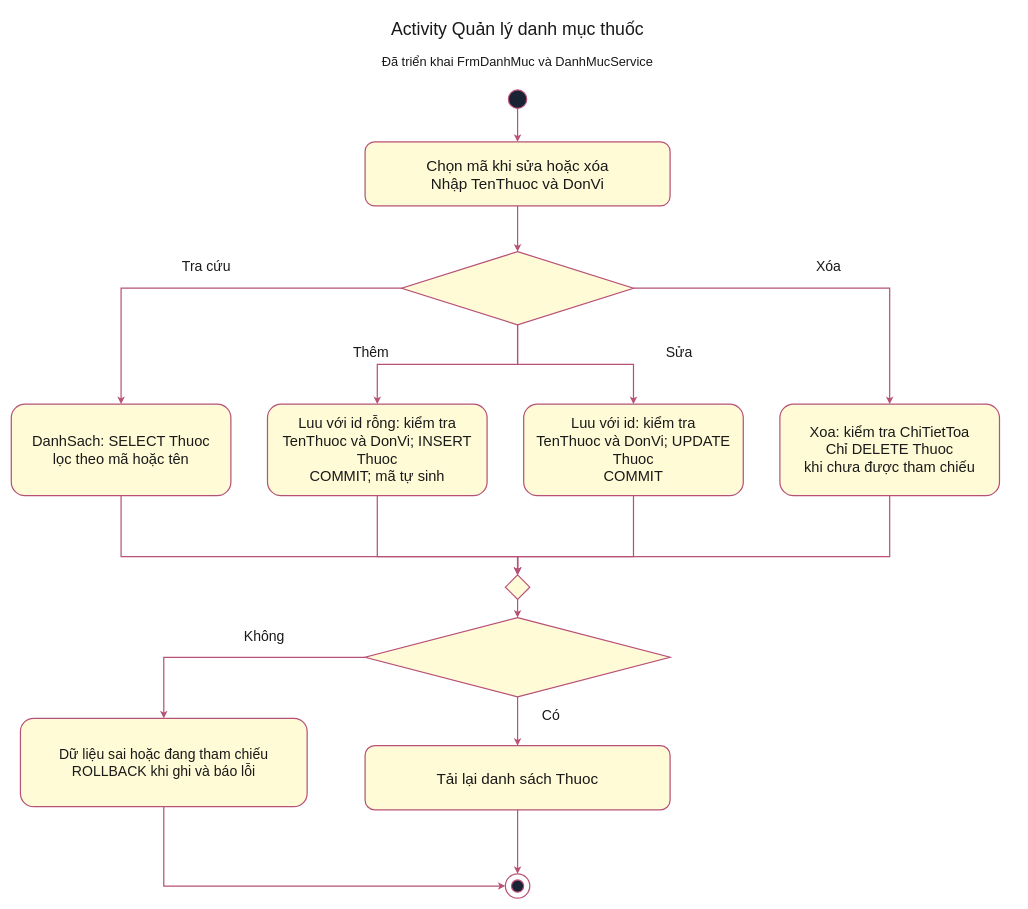
Image size: 1028x909. Some labels were removed from this diagram. Here are the shapes that lost their labels. From the top down, the centre of each, then its label:
[517,288]: Thao tác nào?
[517,657]: Thao tác thành công?
